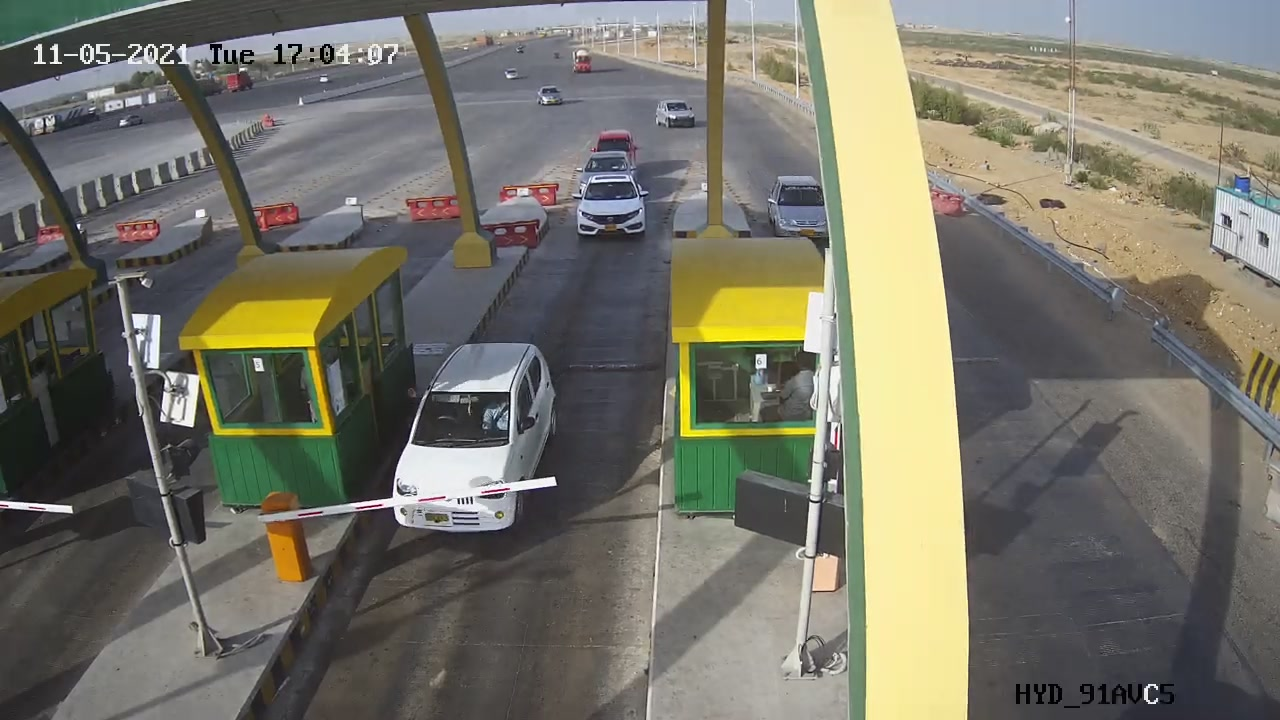F1: (372, 329, 570, 548), (560, 164, 666, 257)
